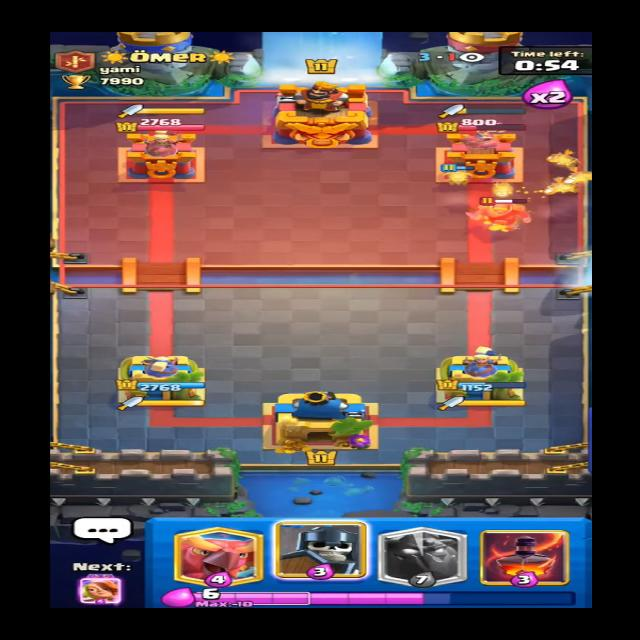knight: (472, 191, 537, 232)
